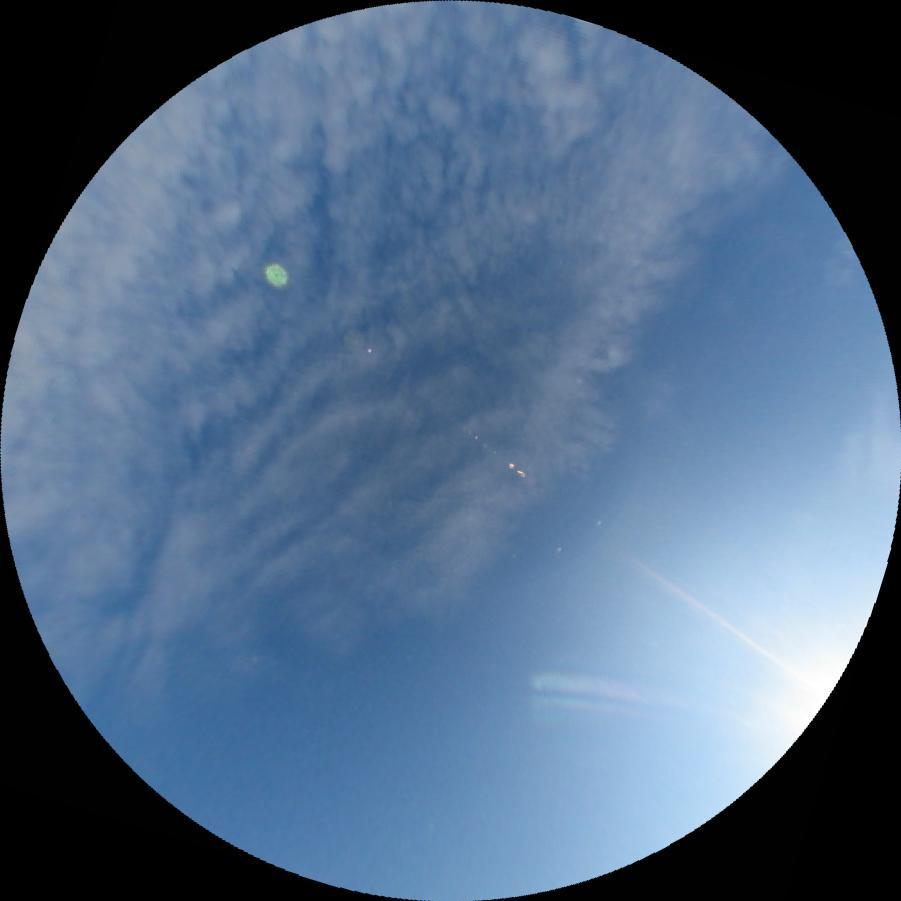parasite: (633, 556, 796, 675), (531, 668, 690, 712)
